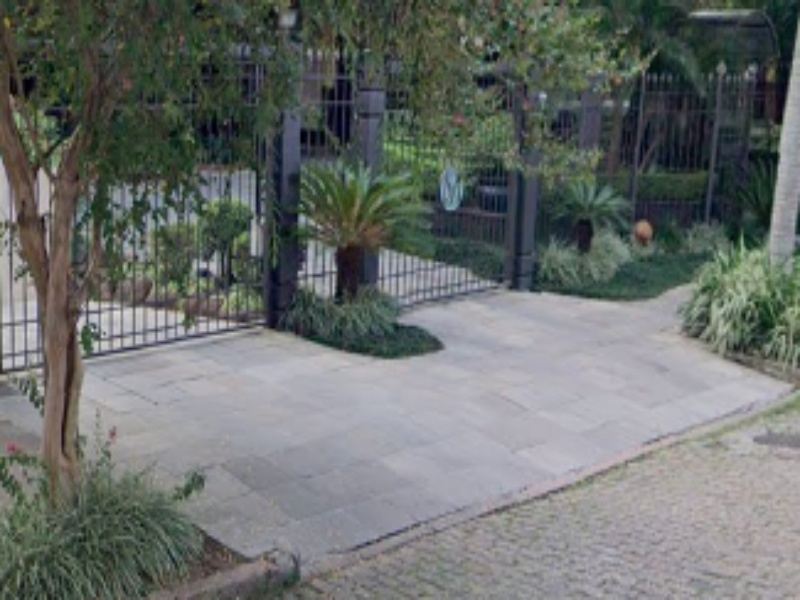g52: (305, 383, 795, 576)
